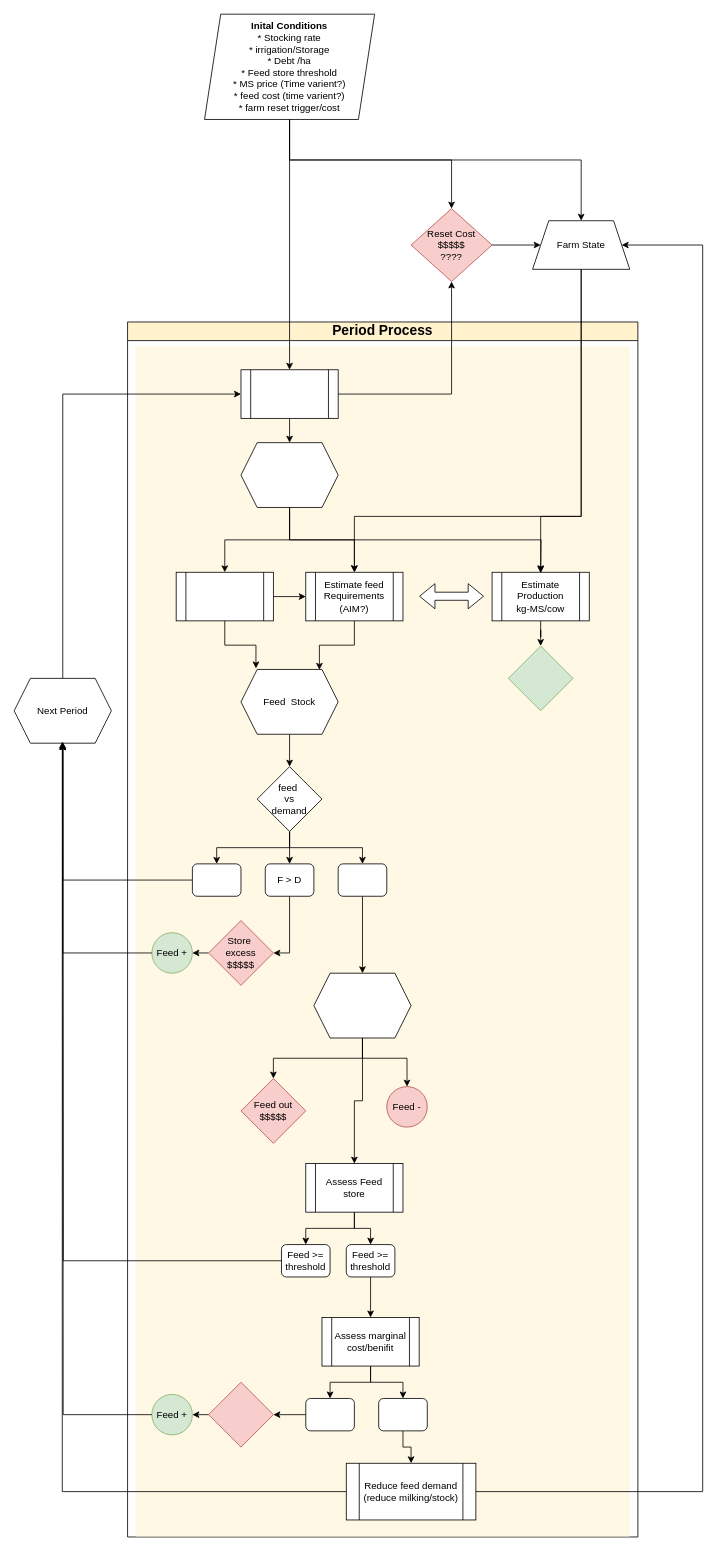
Some shapes in this 723 by 1551 pixel diagram are drawn without their labels. Here are the shapes that lost their labels. From the top down, the box of each, then its label:
(240, 369, 338, 418): Reset Farm state?
(240, 442, 338, 507): Start Period
(175, 571, 273, 621): Pasture Production (BASGRA)
(507, 645, 573, 711): Sell MS $$$$$
(192, 863, 241, 896): F == D
(337, 863, 387, 896): F < D
(313, 972, 411, 1038): Take feed from store(s)
(208, 1381, 273, 1447): Buy in Feed $$$$$
(305, 1398, 354, 1431): Cost <= Benefit
(378, 1398, 427, 1431): Cost > Benefit
